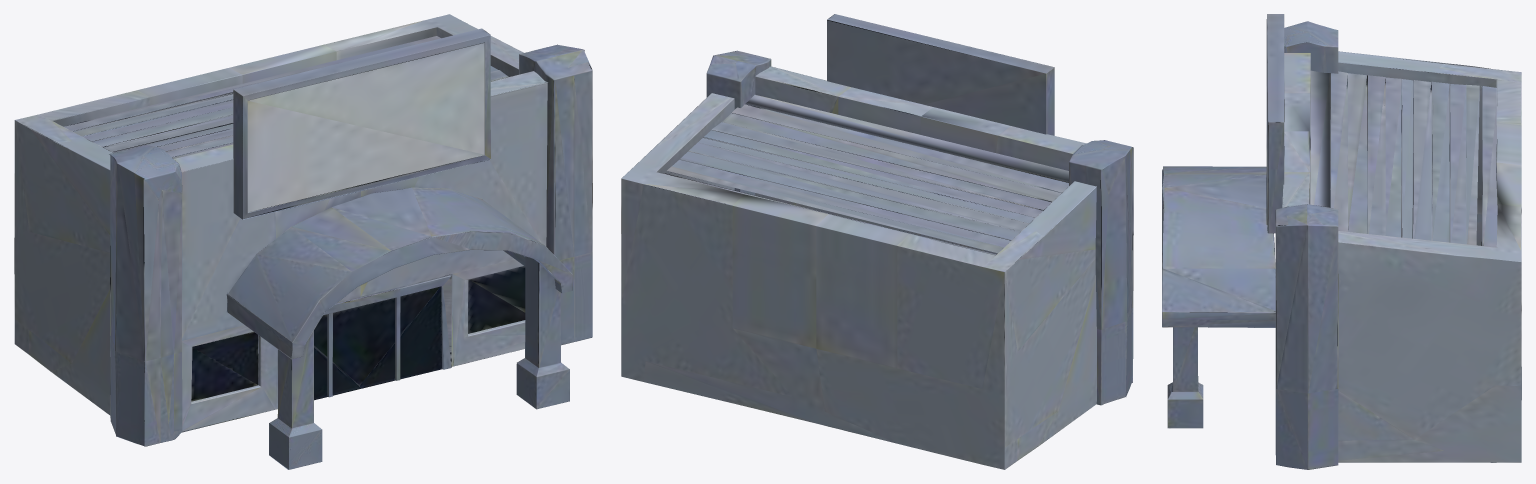
The model's file is 38-cinema.glb.
The picture shows the model from 3 angles, left to right: view 1: azimuth 30°, elevation 25°; view 2: azimuth 150°, elevation 25°; view 3: azimuth 270°, elevation 25°; orthographic projection. The views are drawn at different scales.
Visible parts, largest first — view 1: geometry_0; view 2: geometry_0; view 3: geometry_0.
Boxes of the visible parts, <box> form: geometry_0: <box>14,14,592,469</box>; geometry_0: <box>621,14,1133,469</box>; geometry_0: <box>1162,14,1521,469</box>.
Size of the model in its own units: 0.9531 by 0.6426 by 0.7056.
Materials: 1 (1 with a texture image).
